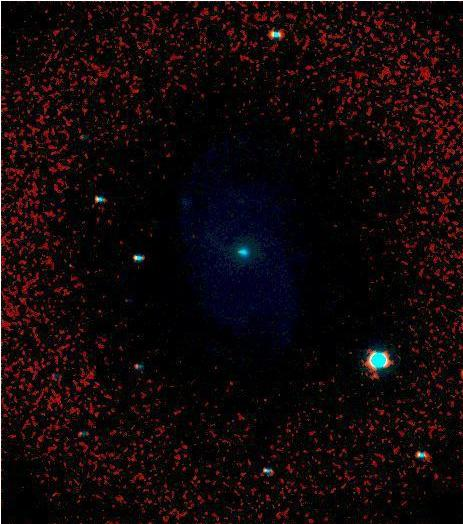star: (362, 363, 392, 393)
